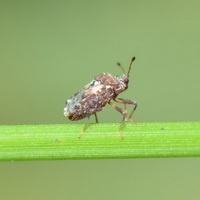insect: (64, 57, 136, 138)
